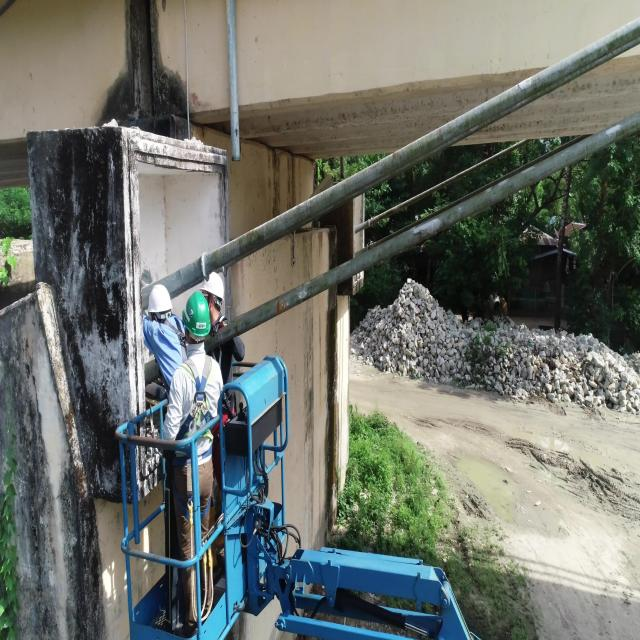corrosion: (276, 299, 281, 314), (282, 300, 288, 311), (392, 150, 397, 160)
crack: (338, 265, 342, 280), (306, 201, 308, 217), (416, 142, 418, 151), (514, 88, 516, 96), (421, 137, 423, 144), (412, 142, 414, 149), (354, 176, 356, 181), (431, 132, 432, 140), (366, 168, 367, 176), (362, 170, 363, 176), (357, 174, 358, 178), (344, 181, 344, 187), (324, 191, 324, 199)
